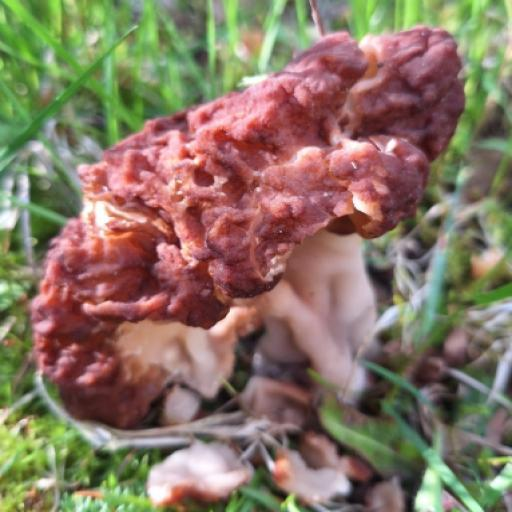mushroom: (31, 26, 458, 430)
